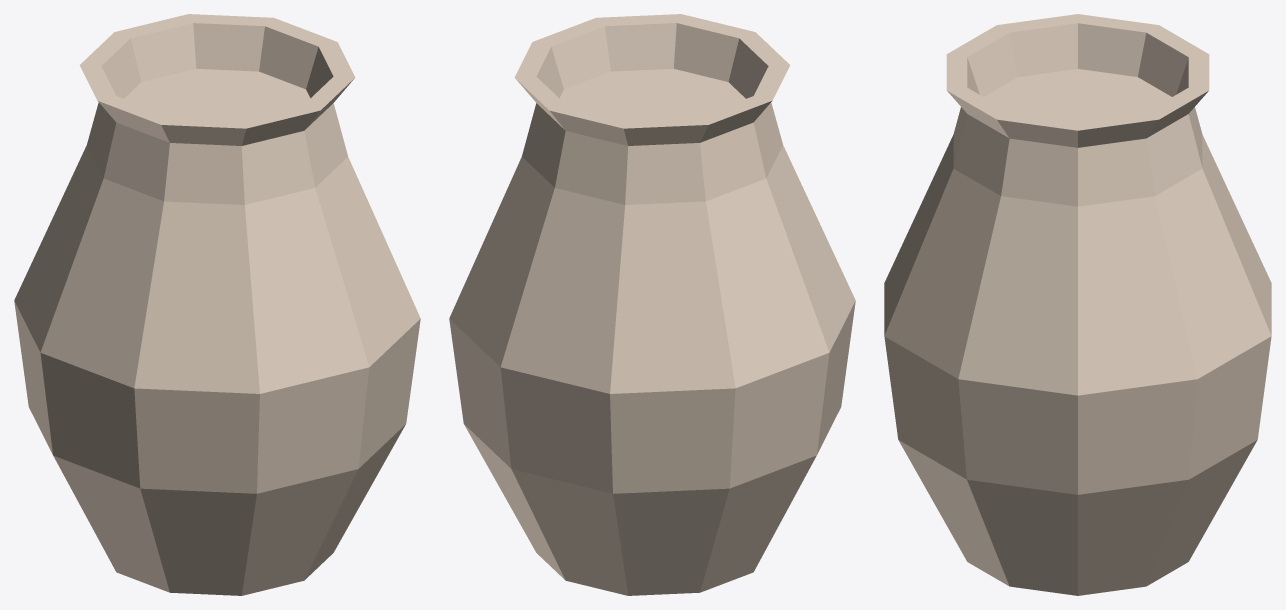
File: prop-pot-unfired.fbx
3 renders of one model, left to right at view 1: azimuth 30°, elevation 25°; view 2: azimuth 150°, elevation 25°; view 3: azimuth 270°, elevation 25°, orthographic.
Parts seen in each view (by area): view 1: prop-pot-unfired; view 2: prop-pot-unfired; view 3: prop-pot-unfired.
Part boxes in pixels (x1,y1,x2,y2): prop-pot-unfired: [14, 14, 420, 595]; prop-pot-unfired: [449, 14, 855, 595]; prop-pot-unfired: [884, 14, 1271, 595].
Bounding box in the file's own units: 28 × 36 × 26.63.
